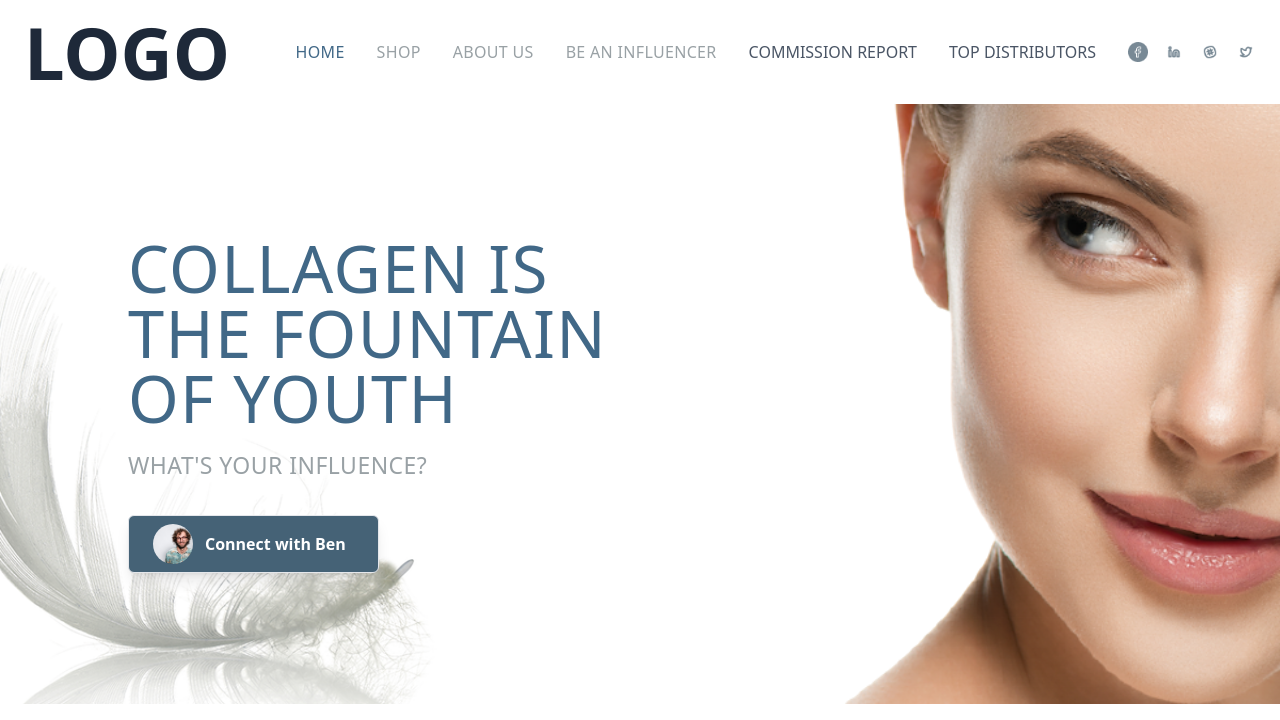
Vue Laravel App - Full E2E Tests › Hero Section › should open form modal when Connect button is clicked
Click the button "Connect with Ben": [254, 544] box [128,515,379,573]
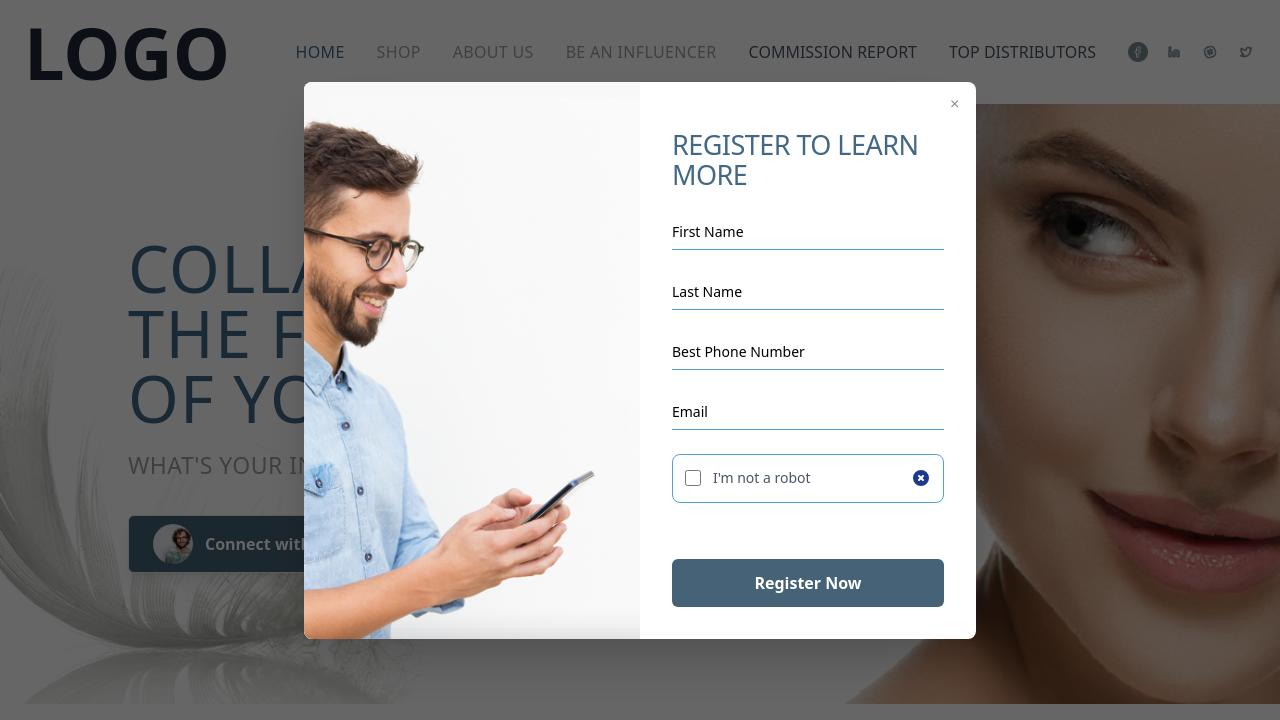
Check: the heading "REGISTER TO learn more" is shown, box [672,130,944,190]
